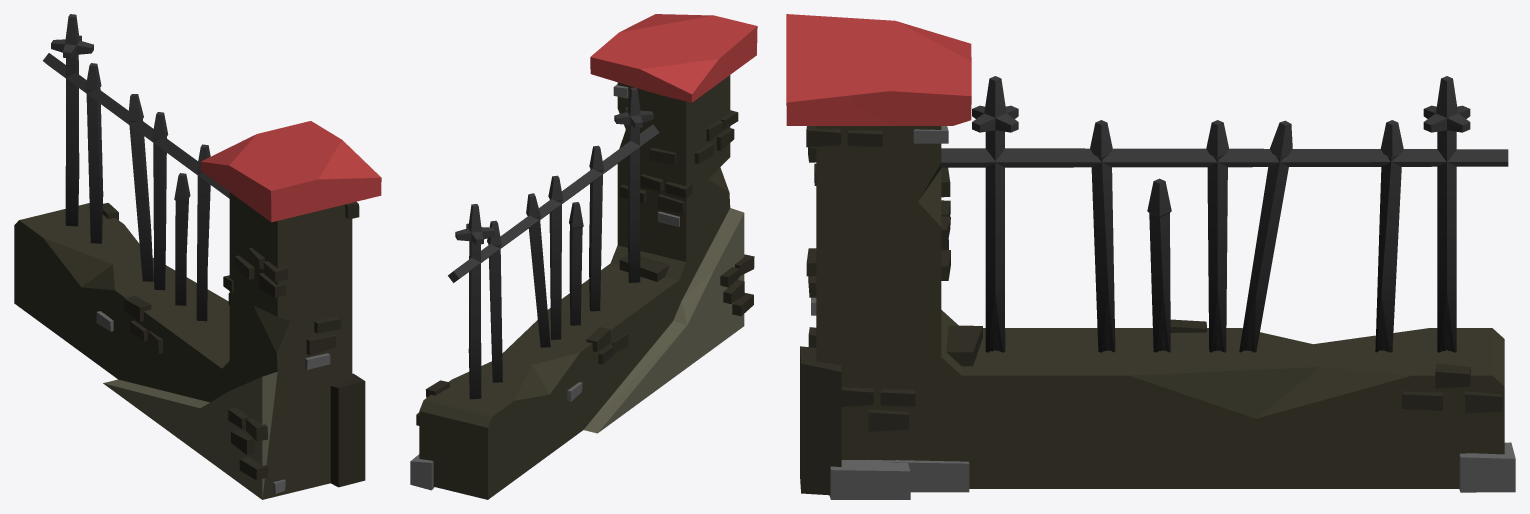
The model's file is ea_arch_wall03_end_01c_pre_2_lev1.glb.
3 renders of one model, left to right at view 1: azimuth 30°, elevation 25°; view 2: azimuth 150°, elevation 25°; view 3: azimuth 270°, elevation 25°, orthographic. The views are drawn at different scales.
Parts seen in each view (by area): view 1: ea_arch_wall03_end_01c_pre_2_lev1; view 2: ea_arch_wall03_end_01c_pre_2_lev1; view 3: ea_arch_wall03_end_01c_pre_2_lev1.
Part boxes in pixels (x1=…): ea_arch_wall03_end_01c_pre_2_lev1: x1=14, y1=14, x2=381, y2=499; ea_arch_wall03_end_01c_pre_2_lev1: x1=410, y1=14, x2=757, y2=499; ea_arch_wall03_end_01c_pre_2_lev1: x1=786, y1=14, x2=1515, y2=499.
Bounding box in the file's own units: 1.13 × 2.95 × 4.65.
Materials: 1 (1 with a texture image).
